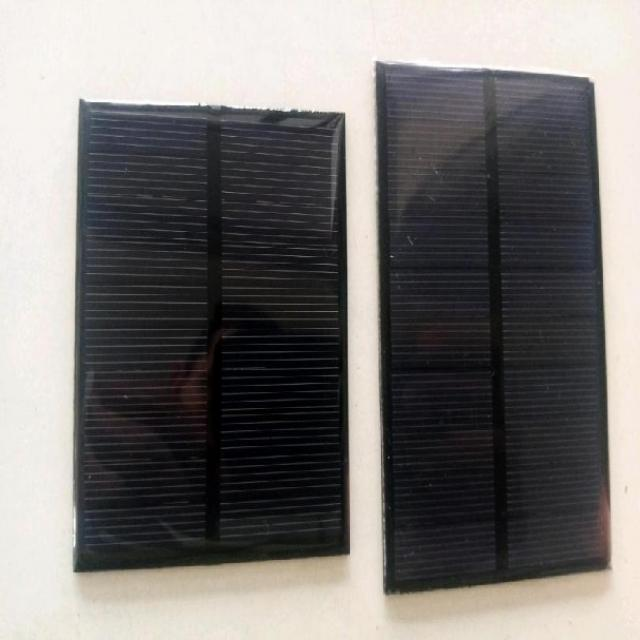no faulty: (92, 105, 358, 559), (374, 66, 606, 584)
